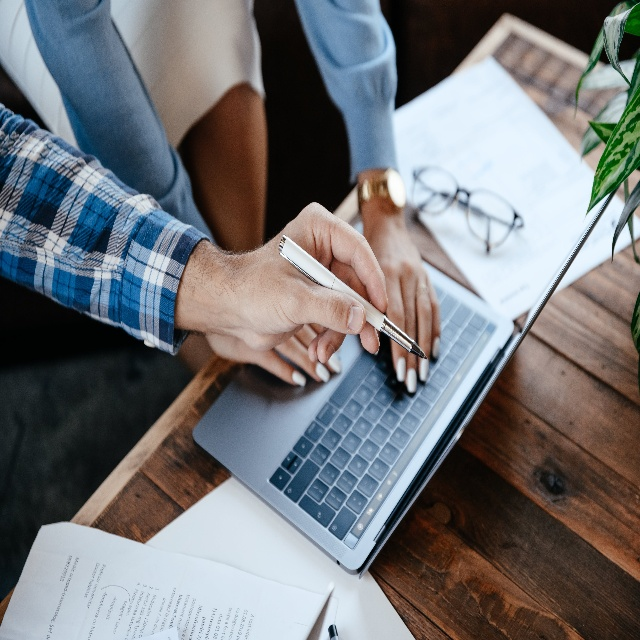Gafas: (412, 166, 521, 251)
Sin_guantes: (225, 201, 386, 373), (356, 220, 442, 386), (275, 329, 341, 389)
